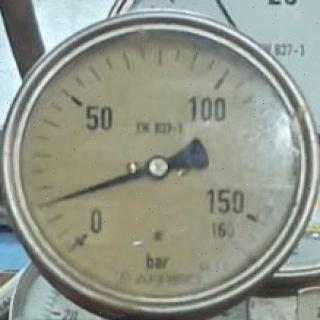gauge: (0, 0, 320, 320), (61, 205, 115, 261), (225, 190, 271, 242), (145, 154, 171, 180), (38, 196, 53, 211)
